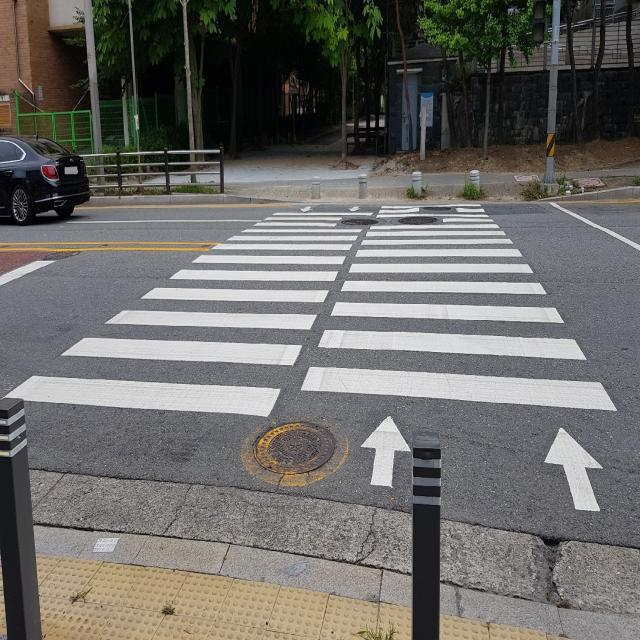횡단보도: (0, 200, 619, 516)
